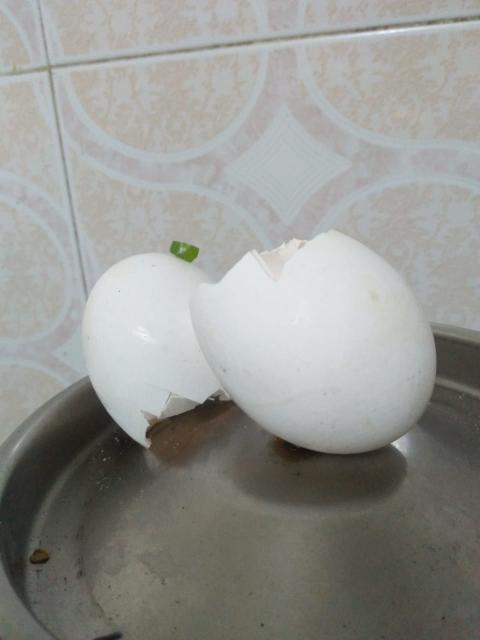Roto: (188, 228, 438, 455), (80, 243, 228, 449)
